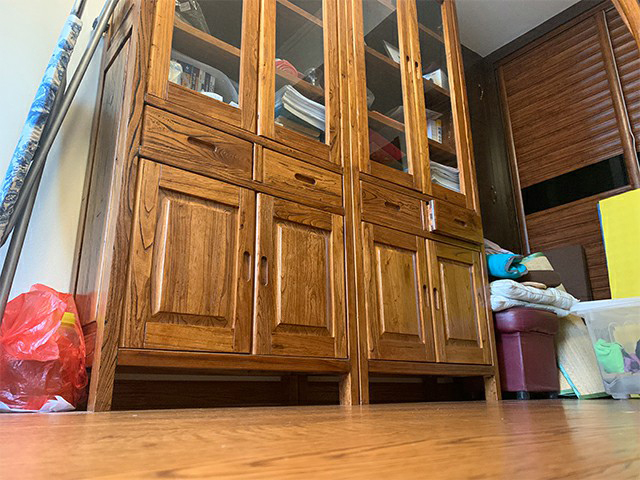cabinet: (100, 29, 503, 412)
